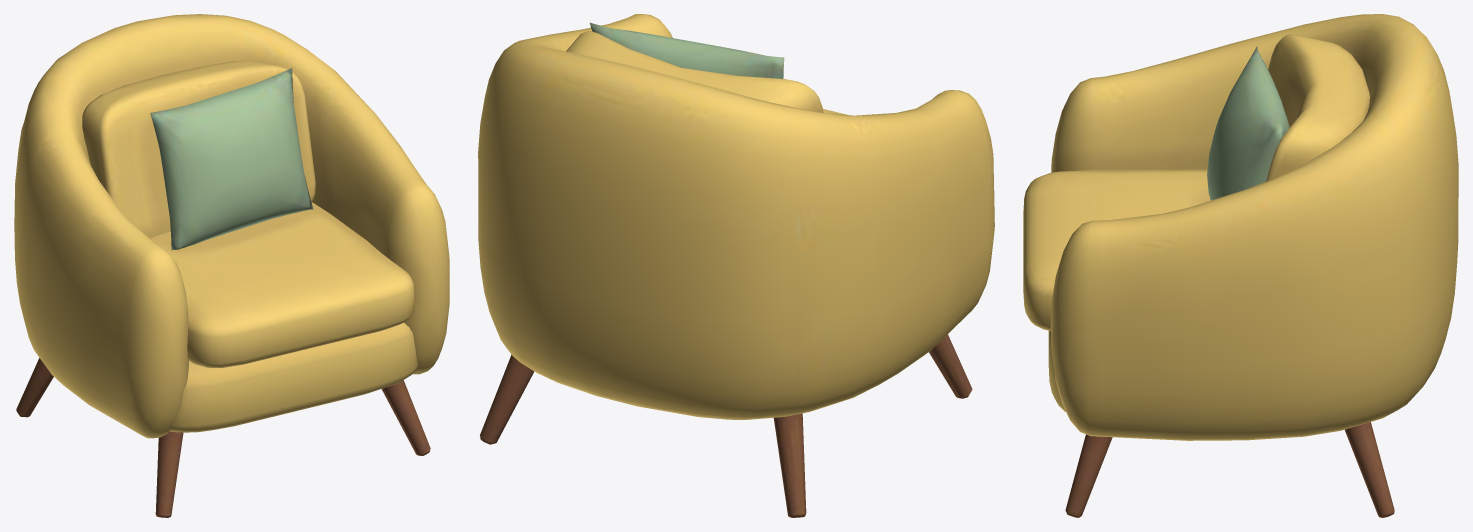
Rendered from armchair.glb.
3 views of the same model, side by side, from view 1: azimuth 30°, elevation 25°; view 2: azimuth 150°, elevation 25°; view 3: azimuth 270°, elevation 25° (orthographic). The views are drawn at different scales.
Parts seen in each view (by area): view 1: armchair_body; view 2: armchair_body; view 3: armchair_body.
Boxes of the visible parts, <box> form: armchair_body: <box>14,14,449,517</box>; armchair_body: <box>478,14,994,517</box>; armchair_body: <box>1023,14,1458,517</box>.
Bounding box in the file's own units: 0.7907 × 0.7846 × 0.7877.
Materials: 1 (1 with a texture image).
